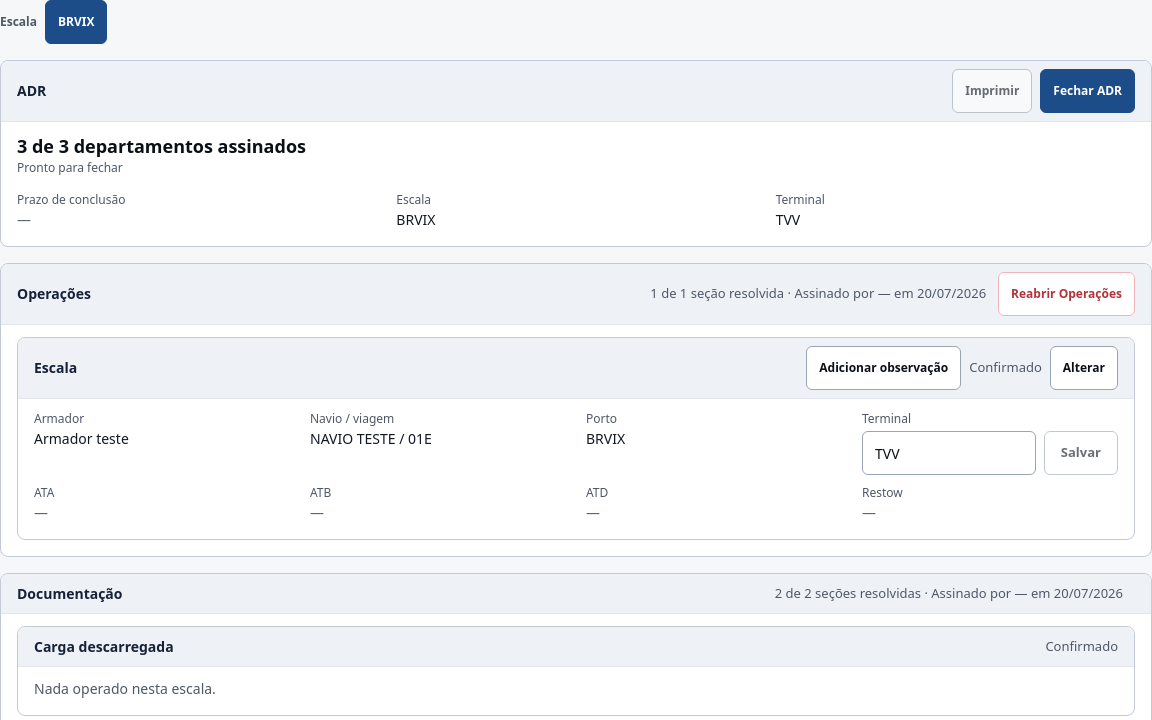
Test: pede confirmação antes de fechar o ADR
What coordinates should you click on to do the following:
click the button "Fechar ADR"
I would click on:
 (1088, 91)
Its box is [1040,69,1135,113].
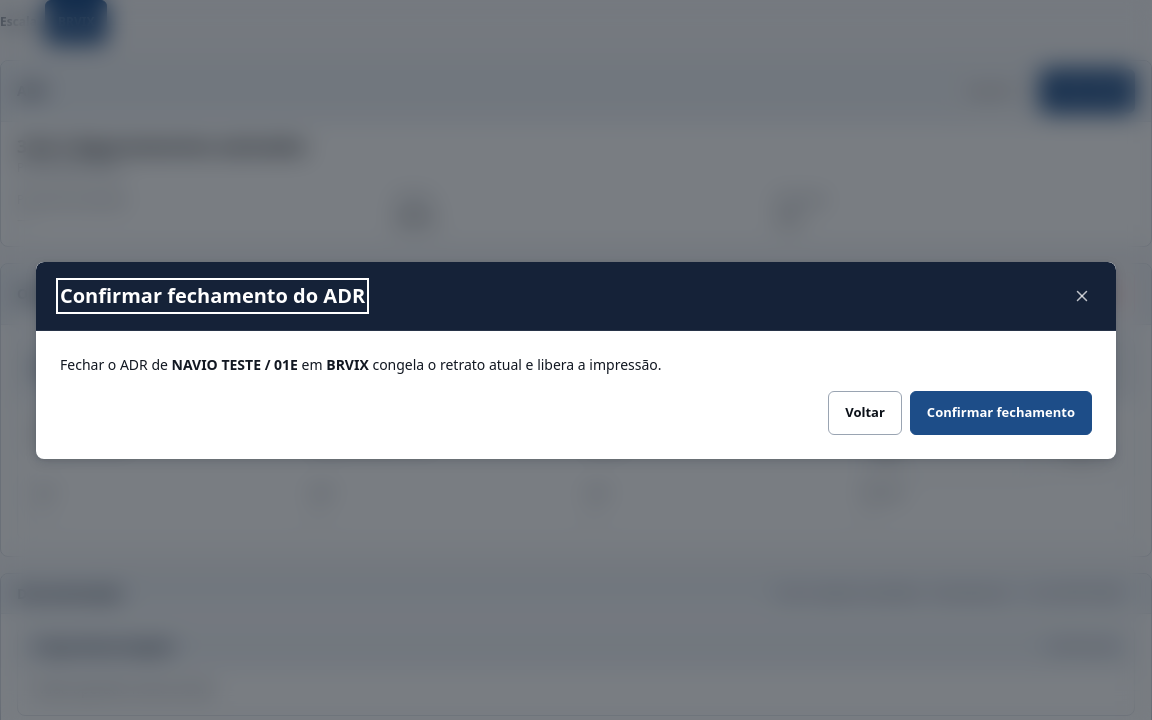
Now the dialog "Confirmar fechamento do ADR" is shown, box [36,262,1116,458]
